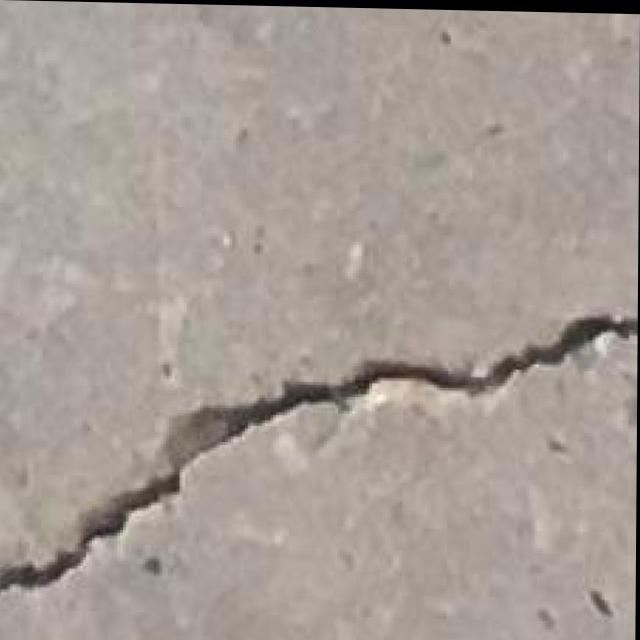Crack: (0, 302, 633, 601)
